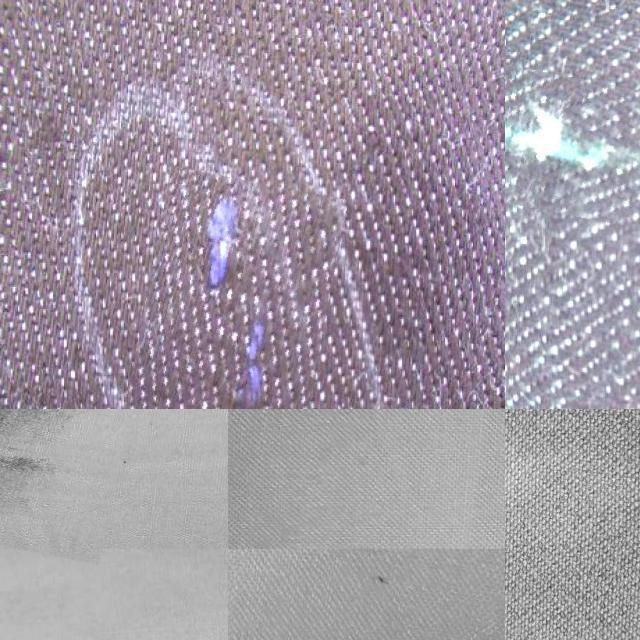Thread_other: (0, 409, 131, 557), (328, 561, 410, 621)
stains: (134, 174, 336, 409), (505, 75, 640, 245)
